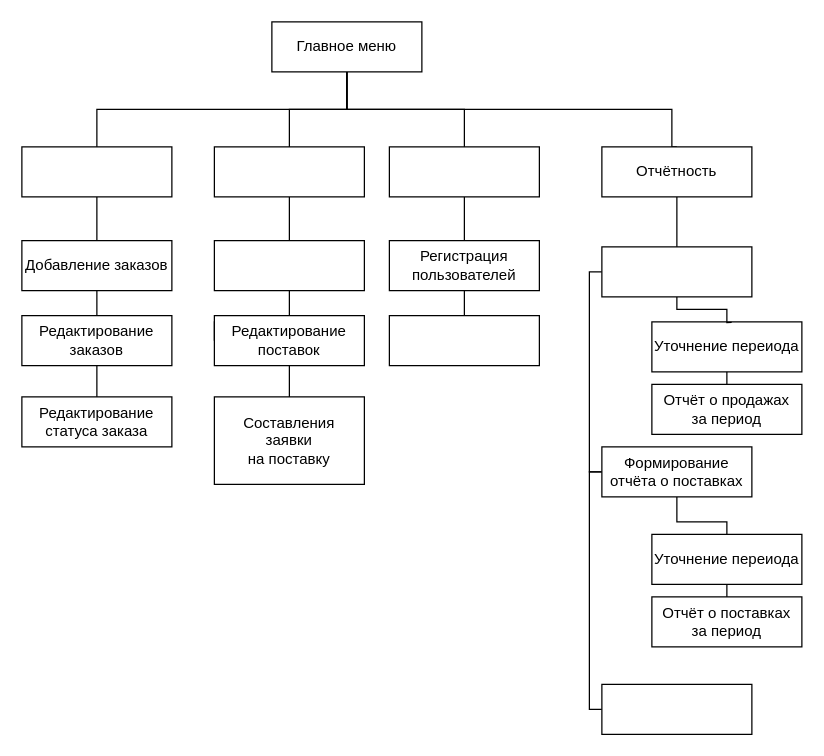
Some shapes in this 824 by 756 pixel diagram are drawn without their labels. Each missing label, with the centre of its shape:
Авторизация пользователей: (x=463, y=340)
Добавление поставок: (x=288, y=265)
Поиск отчёта или запроса: (x=676, y=708)
Управление заказами: (x=96, y=171)
Управление поставками: (x=288, y=171)
Управление учётными записями: (x=463, y=171)
Формирование отчёта о продажах: (x=676, y=271)
